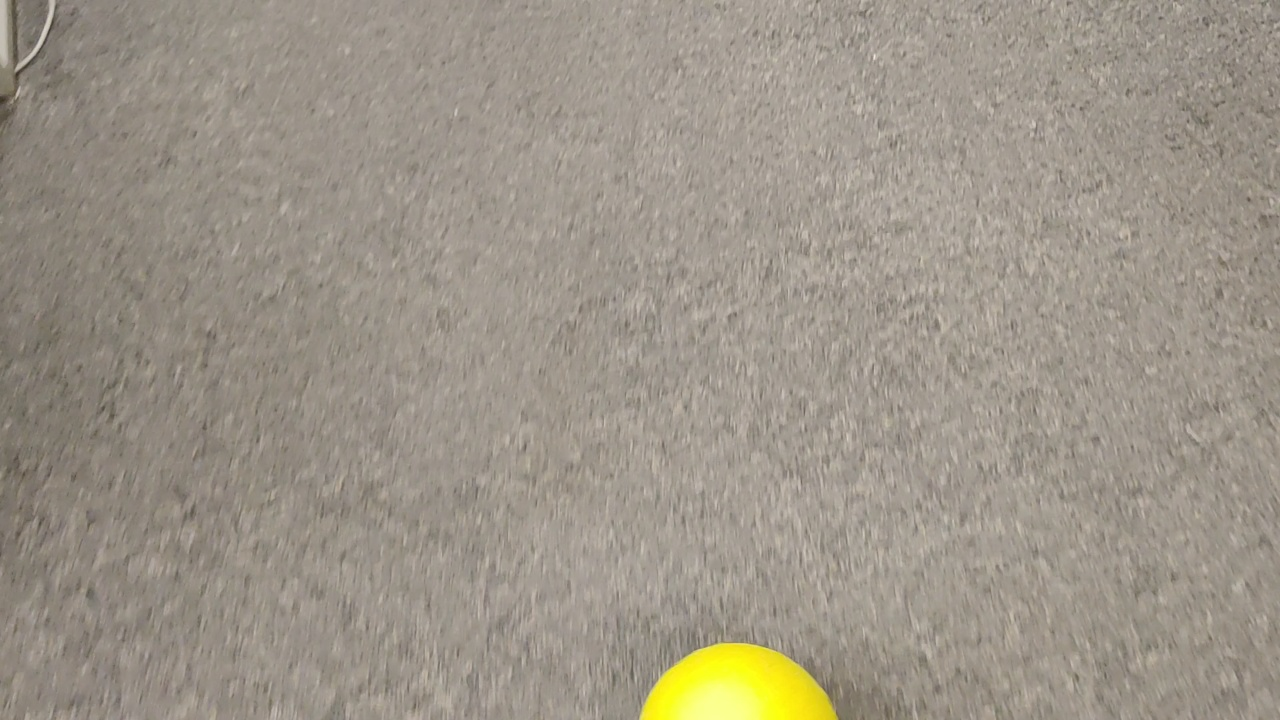Ball: (638, 643, 838, 720)
